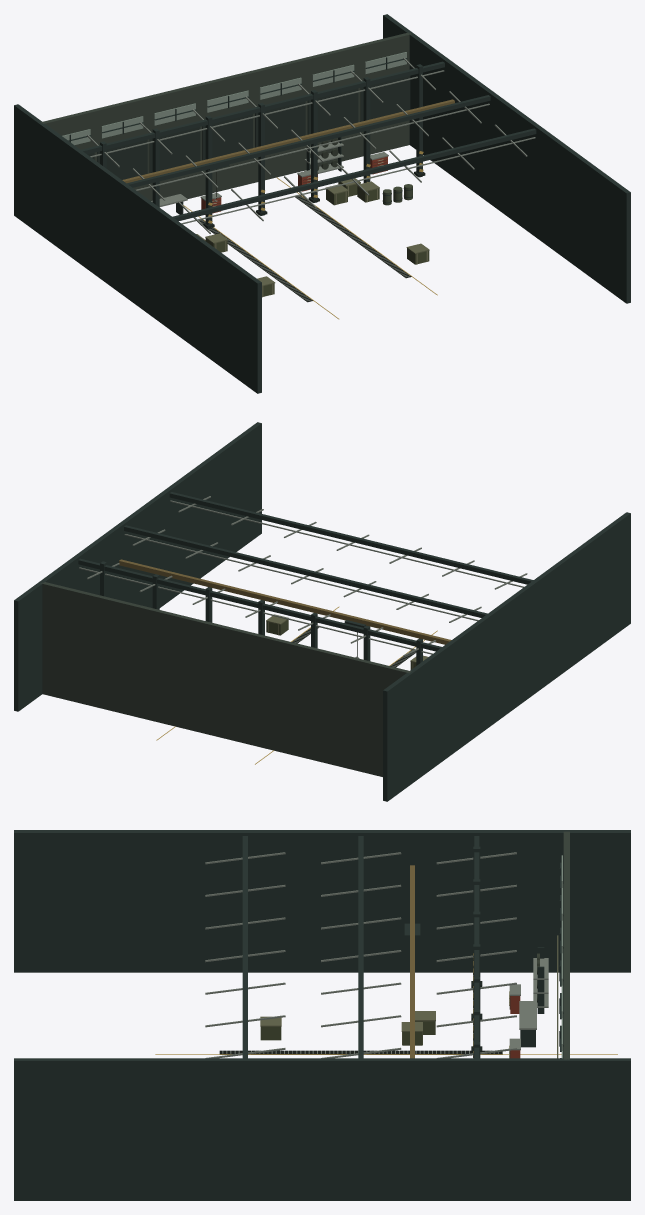
The model's file is Scenery_0000.glb.
3 renders of one model, top to bottom at view 1: azimuth 30°, elevation 25°; view 2: azimuth 150°, elevation 25°; view 3: azimuth 270°, elevation 25°, orthographic. The views are drawn at different scales.
Parts seen in each view (by area): view 1: Group; view 2: Group; view 3: Group.
Boxes of the visible parts, bbox=[...] form: Group: bbox=[14, 14, 630, 393]; Group: bbox=[14, 422, 630, 801]; Group: bbox=[14, 830, 630, 1200].
Size of the model in its own units: 42.5 by 12 by 48.
